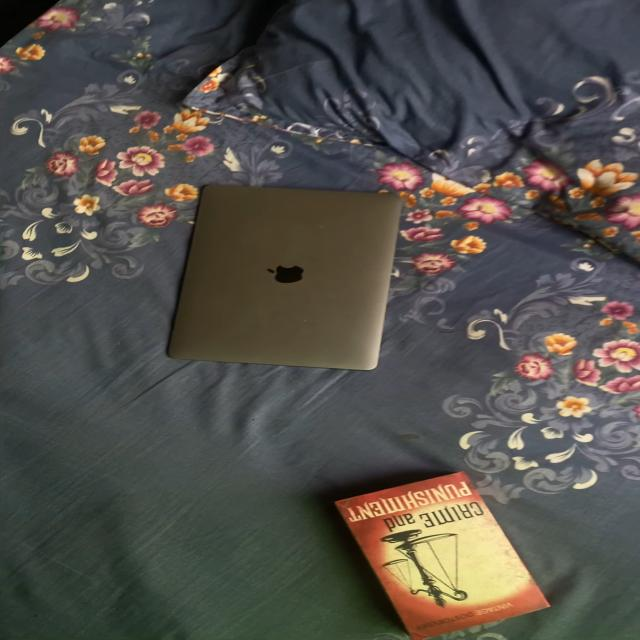book: (315, 469, 564, 640)
laptop: (164, 167, 423, 377)
